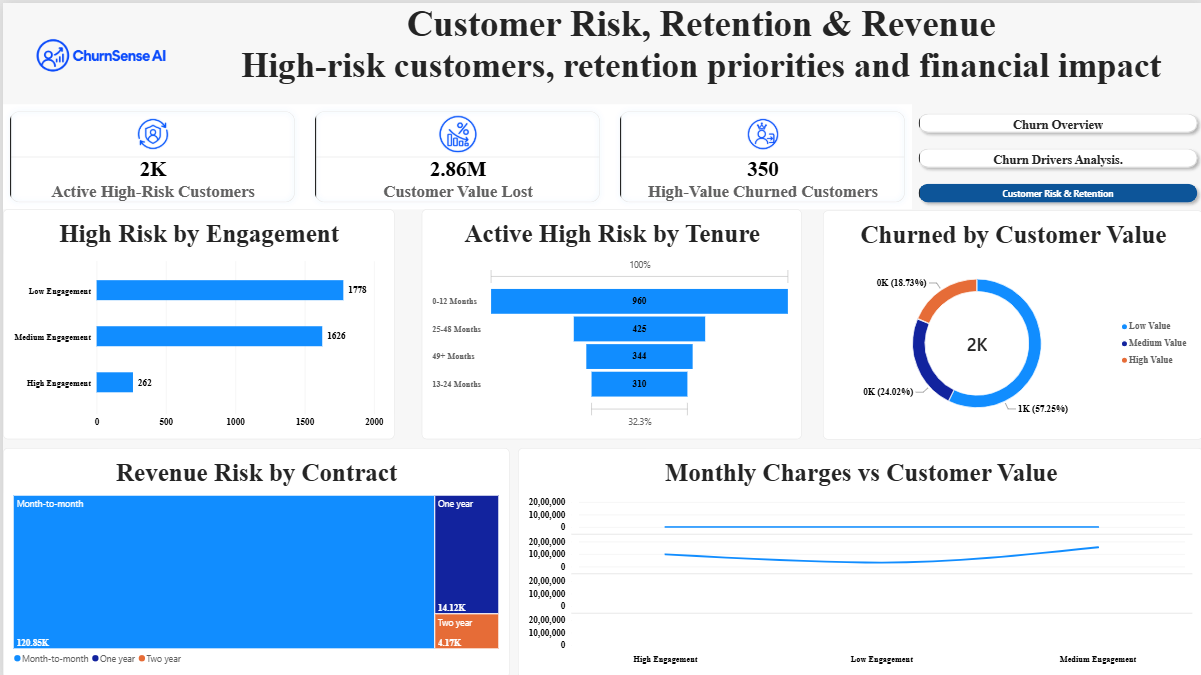

The page's visual inventory and layout, read from the dashboard file:
{"tool":"powerbi","page":{"name":"Customer Risk & Retention","canvas":[1920,1080],"ordinal":2},"visuals":[{"type":"cardVisual","fields":{"Data":["Fact_Churn.Active High-Risk Customers","Fact_Churn.Customer Value Lost","Fact_Churn.High-Value Churned Customers"]},"box":[0,162,1456,168],"z":0},{"type":"clusteredBarChart","title":"High Risk by Engagement","fields":{"Y":["Fact_Churn.High-Risk Customers"],"Category":["Dim_Engagement.Engagement_Segment"]},"box":[0,330,626,368],"z":1000},{"type":"funnel","title":"Active High Risk by Tenure","fields":{"Category":["Dim_TenureGroup.Tenure_Group"],"Y":["Fact_Churn.Active High-Risk Customers"]},"box":[670,330,608,368],"z":2000},{"type":"donutChart","title":"Churned by Customer Value","fields":{"Category":["Fact_Churn.Customer_Value_Segment"],"Y":["Fact_Churn.Churned Customers"]},"box":[1312,332,608,366],"z":3000},{"type":"lineChart","title":"Monthly Charges vs Customer Value","fields":{"Rows":["Fact_Churn.Churn_Flag"],"Category":["Dim_Engagement.Engagement_Segment"],"Y":["Fact_Churn.Customer Value Lost"]},"box":[824,712,1096,368],"z":4000},{"type":"image","box":[0,0,314,168],"z":5000},{"type":"textbox","box":[314,0,1606,162],"z":6000},{"type":"treemap","title":"Revenue Risk by Contract","fields":{"Group":["Dim_Contract.Contract"],"Values":["Fact_Churn.Monthly Revenue at Risk"]},"box":[0,712,810,368],"z":7000},{"type":"pageNavigator","box":[1456,168,464,162],"z":8000}]}

Visuals, with their boxes in screenshot pixels (x1, y1, x2, y2), scaled from the page's 1920x1080 canvas onto the 1201x675 screenshot:
cardVisual - Fact_Churn.Active High-Risk Customers x Fact_Churn.Customer Value Lost: [0, 101, 911, 206]
"High Risk by Engagement" clusteredBarChart: [0, 206, 392, 436]
"Active High Risk by Tenure" funnel: [419, 206, 799, 436]
"Churned by Customer Value" donutChart: [821, 208, 1200, 436]
"Monthly Charges vs Customer Value" lineChart: [515, 445, 1200, 674]
image: [0, 0, 196, 105]
textbox: [196, 0, 1200, 101]
"Revenue Risk by Contract" treemap: [0, 445, 507, 674]
pageNavigator: [911, 105, 1200, 206]
